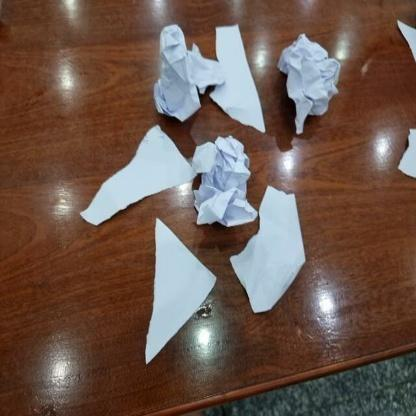trash: (79, 126, 196, 225), (148, 216, 216, 361), (229, 184, 305, 312), (154, 25, 224, 122), (276, 32, 340, 130), (209, 26, 265, 132), (194, 136, 258, 226), (397, 127, 416, 176), (395, 18, 416, 61)
